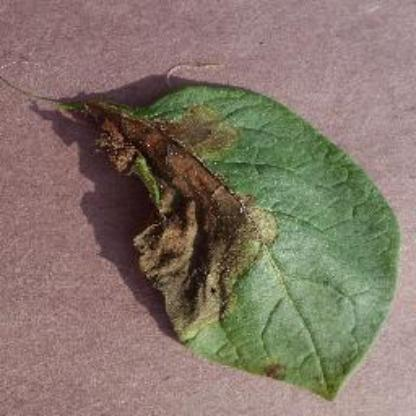Late-Blight: (53, 51, 410, 415)
